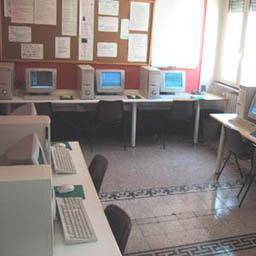Ventana: (224, 4, 255, 90)
